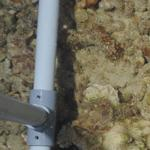dead: (66, 7, 148, 144)
